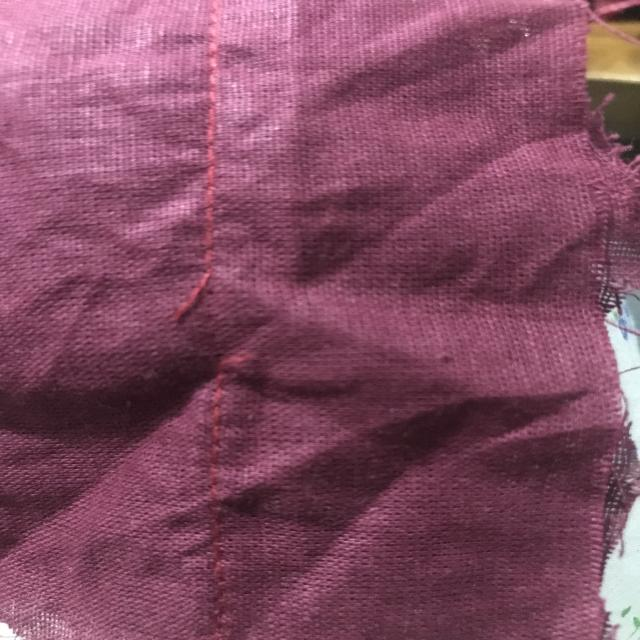broken: (172, 255, 260, 383)
good: (206, 427, 237, 545)
